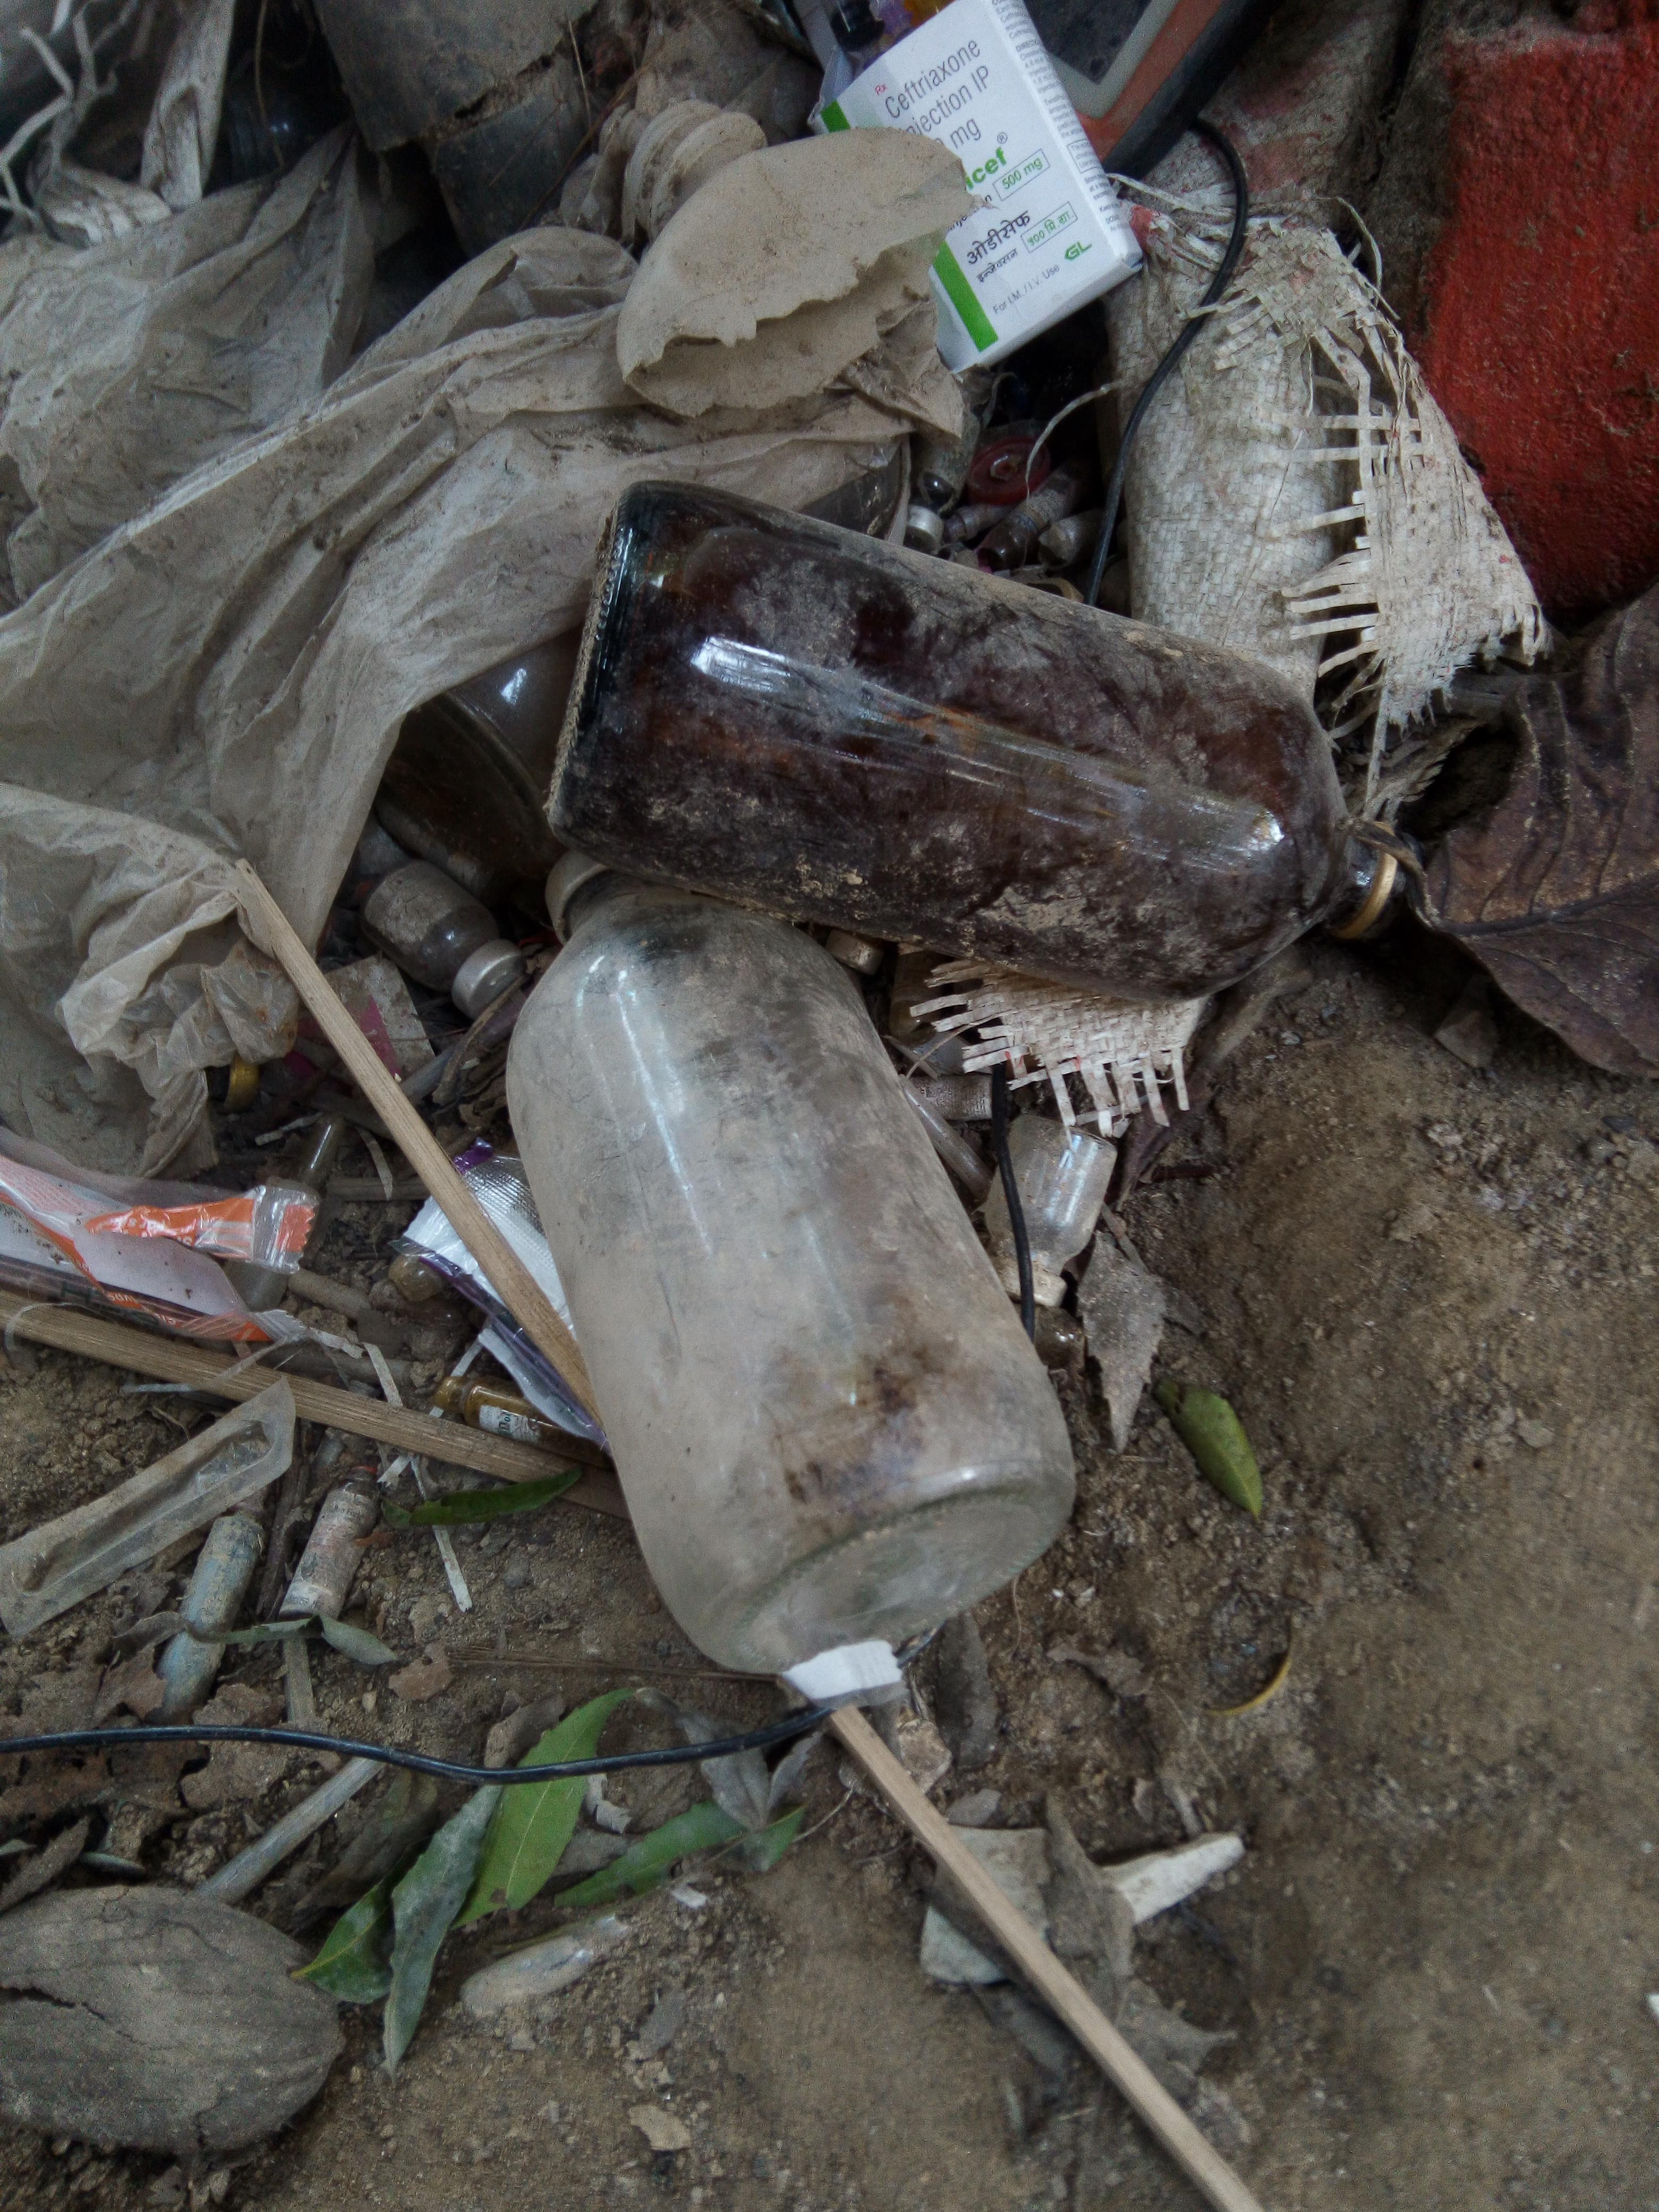trash: (16, 0, 1565, 1806)
